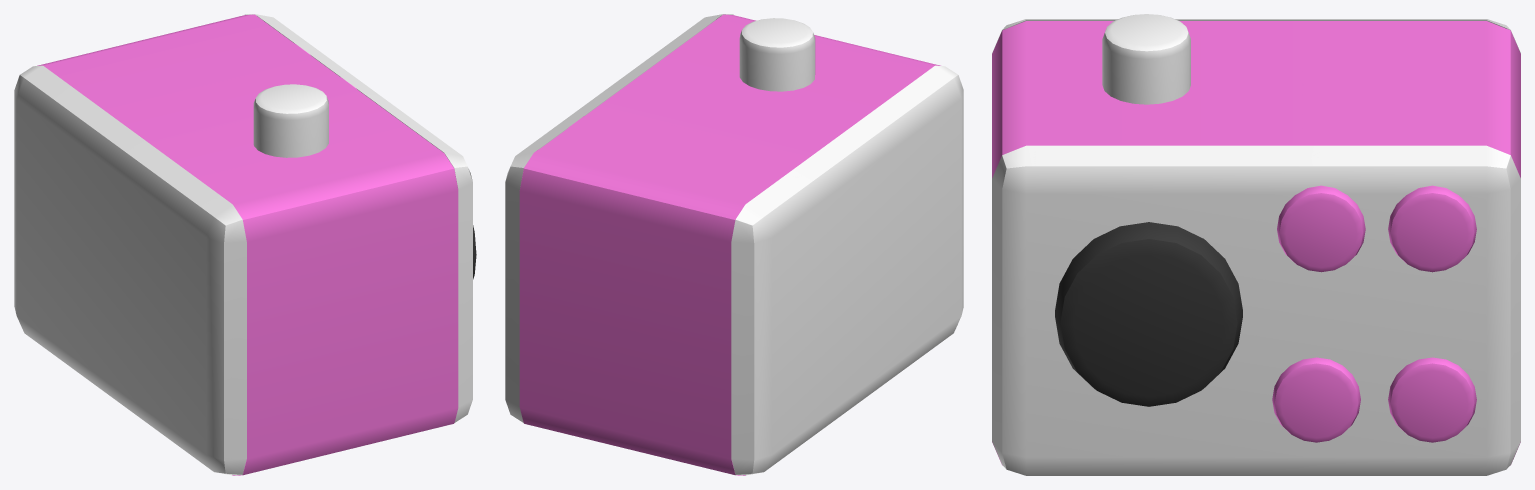
The model's file is shouyinji.fbx.
3 renders of one model, left to right at view 1: azimuth 30°, elevation 25°; view 2: azimuth 150°, elevation 25°; view 3: azimuth 270°, elevation 25°, orthographic. The views are drawn at different scales.
Visible parts, largest first — view 1: polySurface4, polySurface3, polySurface1, pCylinder6; view 2: polySurface4, polySurface3, polySurface1, pCylinder6; view 3: polySurface1, polySurface4, pCylinder1, pCylinder6, pCylinder2, pCylinder3, pCylinder4, pCylinder5, polySurface3.
Boxes of the visible parts, left/top/right/bottom form: polySurface4: left=37, top=14, right=458, bottom=475; polySurface3: left=14, top=65, right=246, bottom=475; polySurface1: left=245, top=14, right=472, bottom=422; pCylinder6: left=253, top=84, right=328, bottom=157; polySurface4: left=519, top=14, right=940, bottom=475; polySurface3: left=731, top=65, right=963, bottom=475; polySurface1: left=505, top=14, right=733, bottom=422; pCylinder6: left=739, top=18, right=815, bottom=91; polySurface1: left=992, top=145, right=1520, bottom=475; polySurface4: left=992, top=21, right=1520, bottom=465; pCylinder1: left=1055, top=222, right=1242, bottom=406; pCylinder6: left=1102, top=14, right=1190, bottom=104; pCylinder2: left=1277, top=185, right=1365, bottom=272; pCylinder3: left=1388, top=185, right=1476, bottom=272; pCylinder4: left=1388, top=357, right=1476, bottom=442; pCylinder5: left=1272, top=357, right=1360, bottom=442; polySurface3: left=992, top=19, right=1520, bottom=52.
Size of the model in its own units: 1.6 by 2.09 by 1.67.
